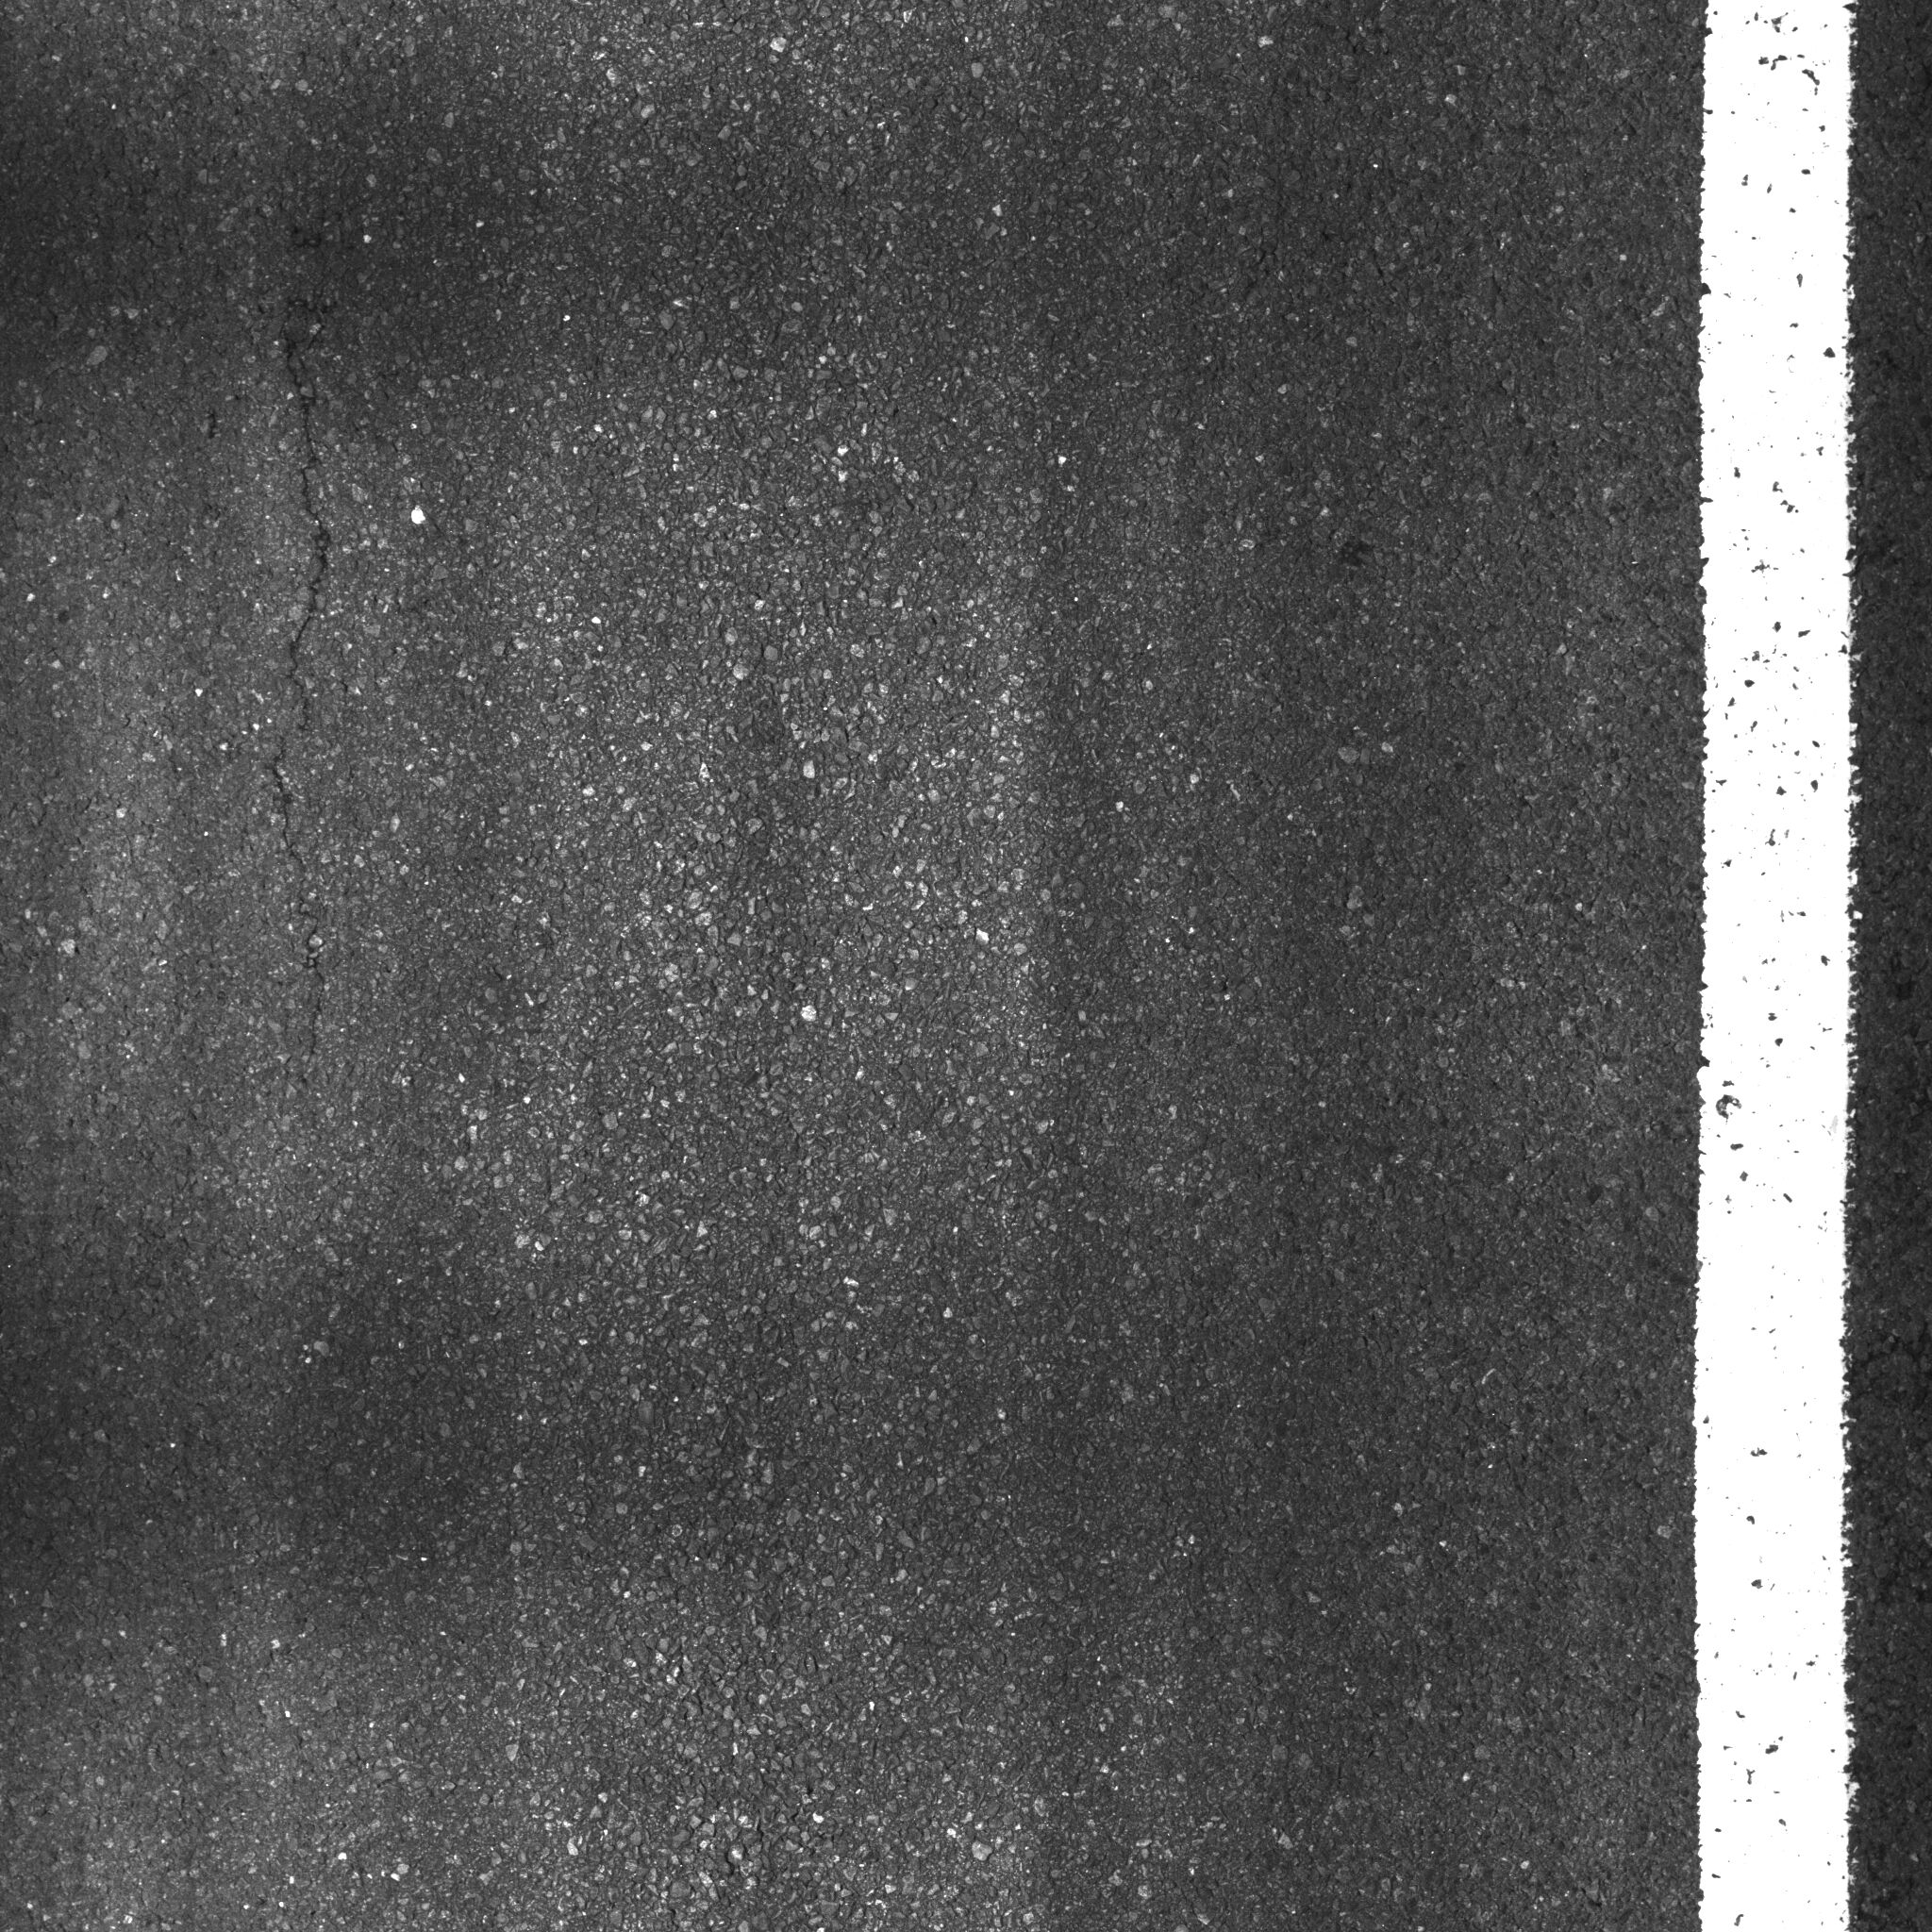longitudinal: (195, 18, 389, 1118)
